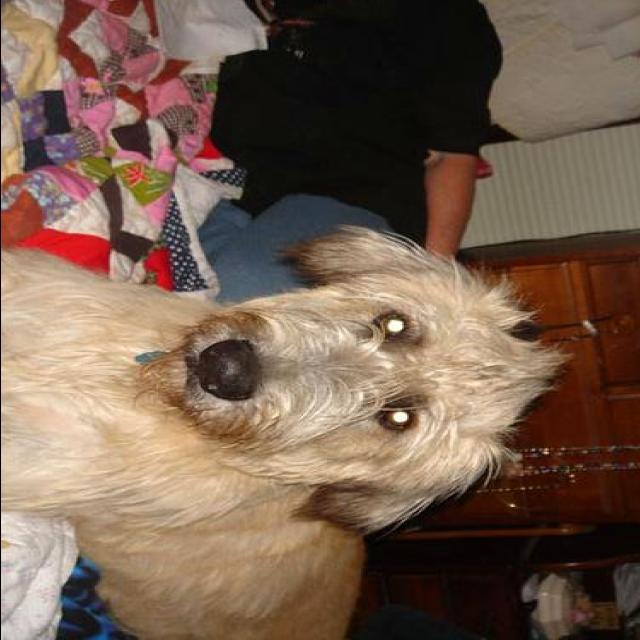irish_wolfhound: (1, 223, 566, 638)
